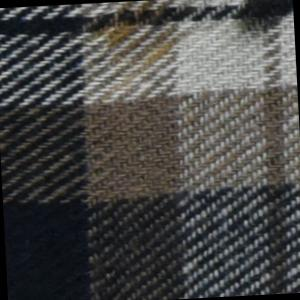Oil Stain: (75, 1, 196, 81)
Stain: (230, 1, 295, 48)
